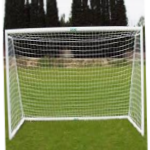goals: (3, 24, 147, 141)
